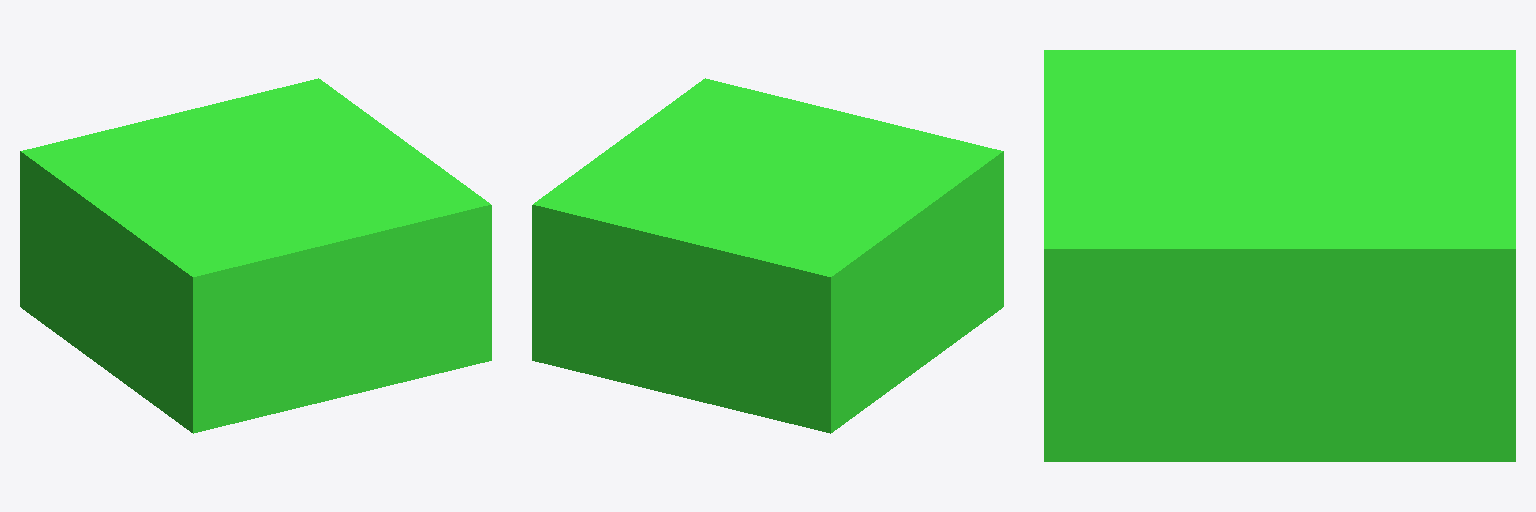
The robot description file, URDF, robot "object":
<?xml version="1.0"?>
<robot name="object">
  <link name="object">
    <visual>
      <origin xyz="0 0 0"/>
      <geometry>
        <!-- 扁平型: 长(x)=0.06, 宽(y)=0.06, 高(z)=0.03 -->
        <box size="0.06 0.06 0.03"/>
      </geometry>
      <material name="color2">
        <color rgba="0.3 1.0 0.3 1.0"/>
      </material>
    </visual>
    <collision>
      <origin xyz="0 0 0"/>
      <geometry>
        <box size="0.06 0.06 0.03"/>
      </geometry>
    </collision>
    <inertial>
      <density value="567.0"/>
    </inertial>
  </link>
</robot>

--- Render facts (derived) ---
Views: 3 orthographic renders of the robot side by side, from view 1: azimuth 30°, elevation 25°; view 2: azimuth 150°, elevation 25°; view 3: azimuth 270°, elevation 25°.
Model object with 1 links and 0 joints (none), rooted at object, posed all joints at 0.
Visible links, largest first — view 1: object; view 2: object; view 3: object.
Boxes of the visible links, x1,y1,x2,y2 form: object: [20, 78, 491, 433]; object: [532, 78, 1003, 433]; object: [1044, 50, 1515, 461].
Size in the robot's own frame: 0.06 by 0.06 by 0.03 metres.
Geometry: primitives only (box / cylinder / sphere), no mesh files.